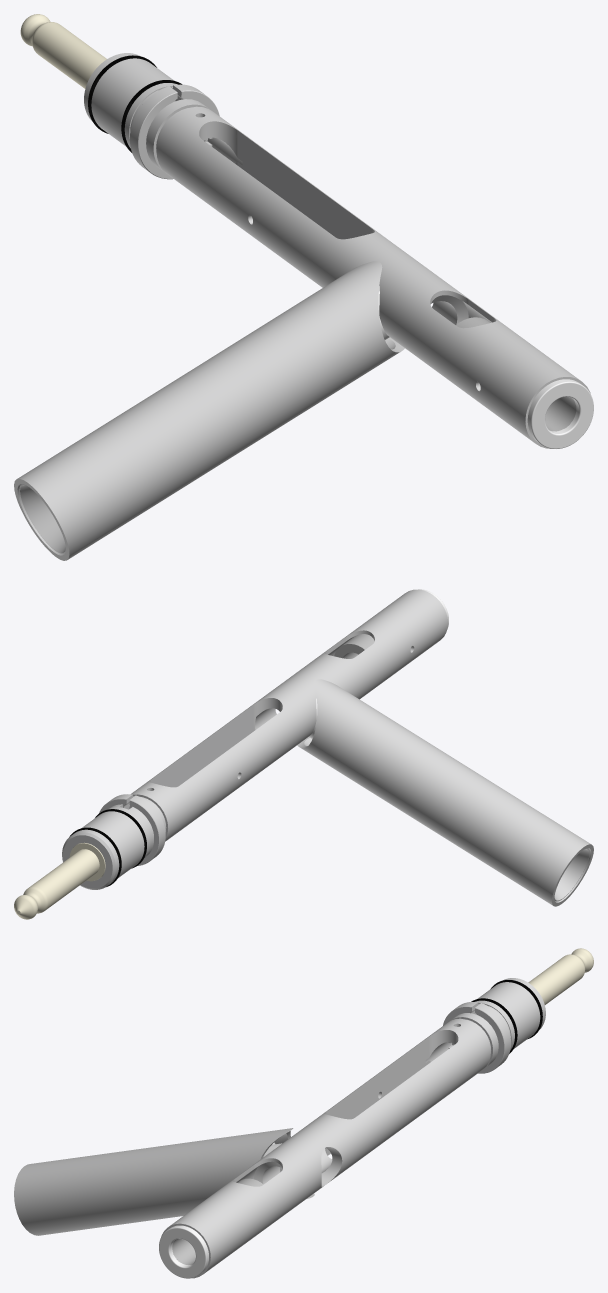
File: SpotT.glb
3 views of the same model, one above another, from view 1: azimuth 30°, elevation 25°; view 2: azimuth 150°, elevation 25°; view 3: azimuth 330°, elevation 25° (orthographic). The views are drawn at different scales.
Parts seen in each view (by area): view 1: Body1.026; view 2: Body1.026; view 3: Body1.026.
Part boxes in pixels (x1,y1,x2,y2): Body1.026: [14, 14, 593, 560]; Body1.026: [14, 589, 593, 919]; Body1.026: [14, 948, 593, 1278].
Bounding box in the file's own units: 0.7986 × 0.4073 × 1.79.
